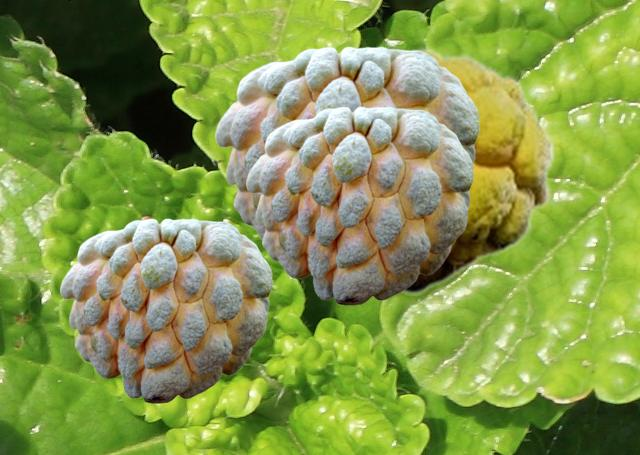atis: (215, 46, 478, 241), (246, 106, 472, 304), (60, 218, 271, 402), (401, 46, 555, 294)
